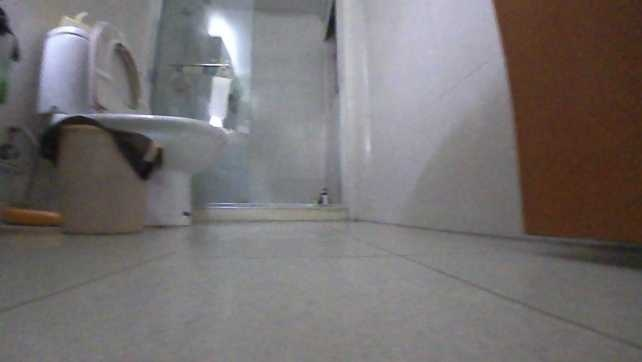toilet: (35, 15, 230, 228)
trash_can: (40, 112, 157, 230)
